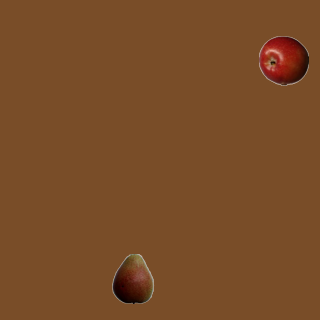Apple Braeburn: (258, 35, 308, 85)
Pear Forelle: (107, 253, 157, 303)
